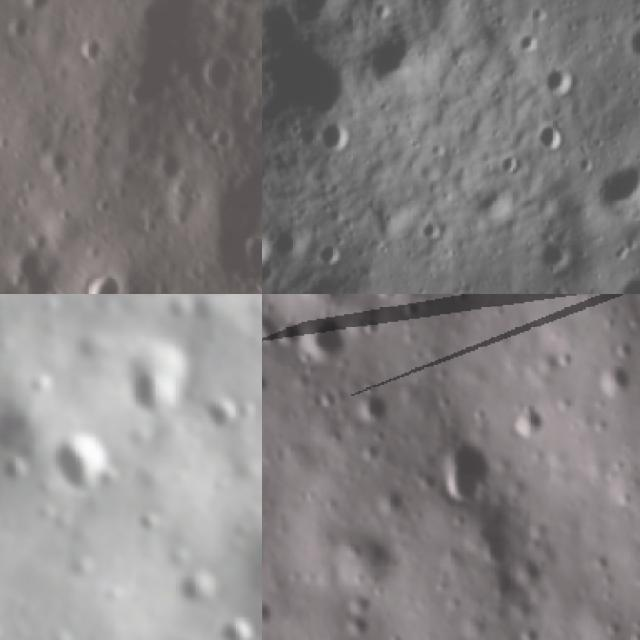crater: (262, 32, 358, 118), (119, 339, 190, 421), (431, 430, 496, 512), (51, 425, 120, 496), (464, 503, 535, 572), (296, 304, 360, 377), (365, 17, 425, 88), (589, 159, 640, 219), (178, 570, 235, 616), (195, 42, 247, 92), (72, 24, 116, 79), (595, 351, 640, 402), (263, 216, 310, 263), (354, 382, 404, 426), (76, 260, 136, 294), (517, 401, 562, 444), (198, 392, 239, 435), (313, 116, 355, 156), (539, 59, 578, 97), (0, 454, 31, 494), (217, 613, 262, 640), (286, 0, 338, 23), (534, 121, 572, 152), (232, 396, 262, 424), (137, 510, 165, 537), (621, 267, 640, 294), (262, 369, 275, 400), (629, 22, 640, 56)
